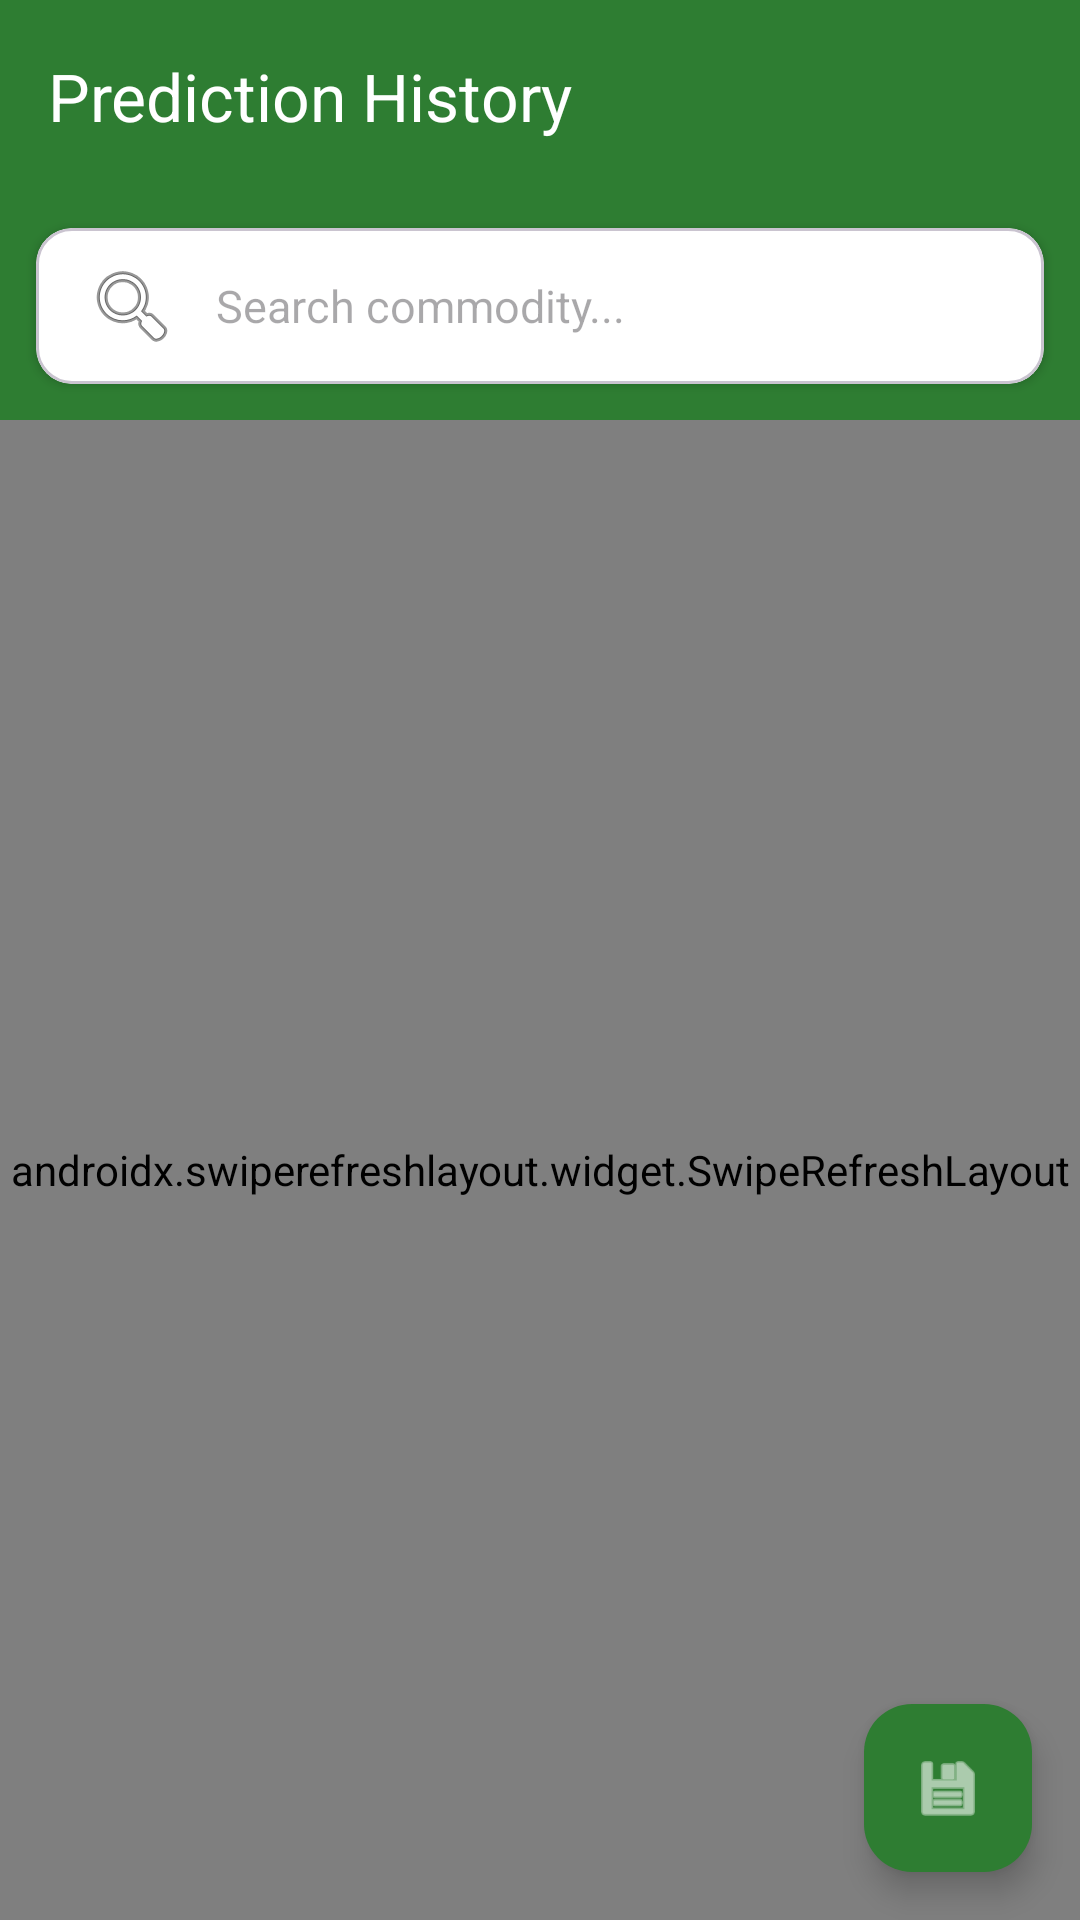

Named icons in this screenshot (1080 × 1920) and their bounding boxes, (x1, y1, x2, y2):
save: (864, 1704, 1032, 1872)
